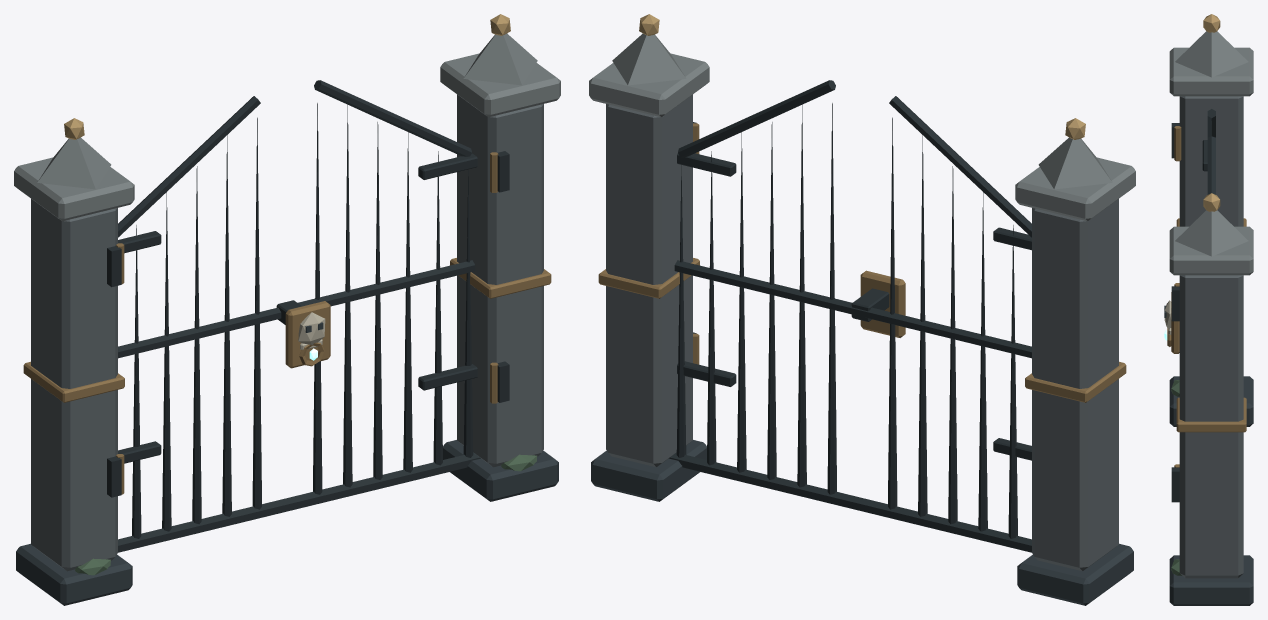
Rendered from warden_iron_gate.glb.
The picture shows the model from 3 angles, left to right: view 1: azimuth 30°, elevation 25°; view 2: azimuth 150°, elevation 25°; view 3: azimuth 270°, elevation 25°; orthographic projection. The views are drawn at different scales.
Parts seen in each view (by area): view 1: warden_iron_gate; view 2: warden_iron_gate; view 3: warden_iron_gate.
Part boxes in pixels (x1,y1,x2,y2): warden_iron_gate: (14,14,560,605); warden_iron_gate: (589,14,1135,605); warden_iron_gate: (1164,14,1253,605).
Bounding box in the file's own units: 2.5 × 2.21 × 0.4479.
